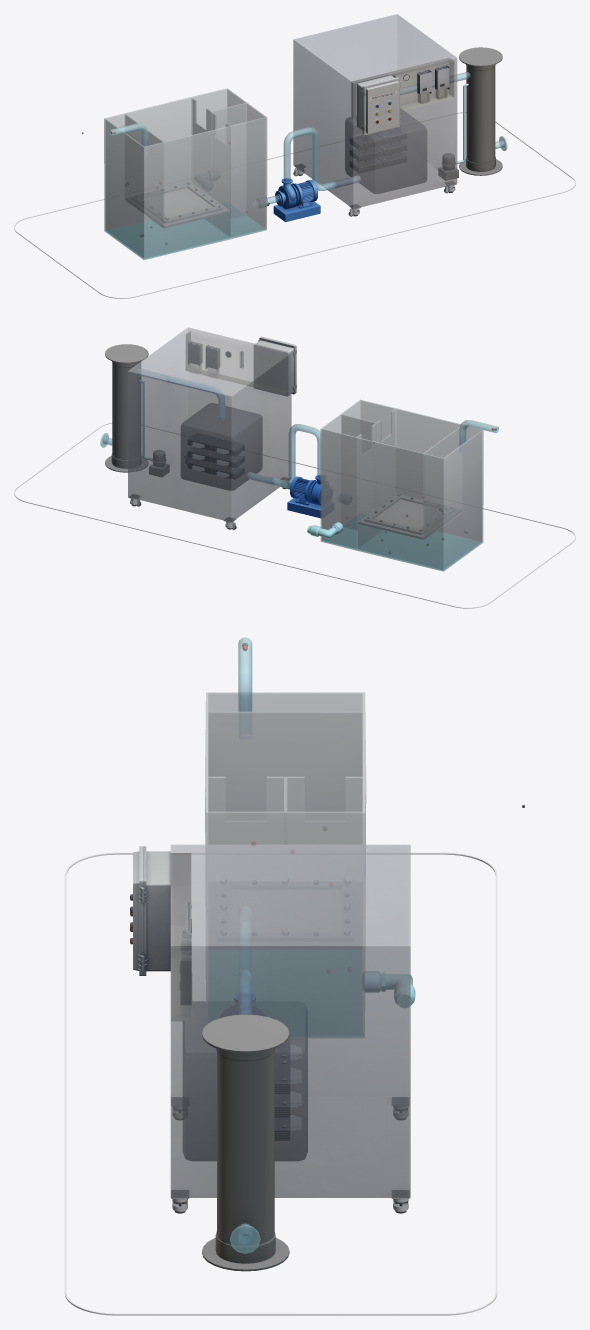
Rendered from NE100_roundedRCT (1).glb.
3 views of the same model, one above another, from view 1: azimuth 30°, elevation 25°; view 2: azimuth 150°, elevation 25°; view 3: azimuth 270°, elevation 25° (orthographic). The views are drawn at different scales.
Visible parts, largest first — view 1: transparent_mesh, Strainer, water_fill_01, CtrllBox, Lauter_filter, Rectangle_01, Pump, SMPS, PUMP_floor, water_fill_02, Pump_small, Electrolyzer_main006 (+1 smaller); view 2: transparent_mesh, Strainer, water_fill_01, CtrllBox, Lauter_filter, Rectangle_01, Pump, SMPS, water_fill_02, PUMP_floor, Pump_small, Electrolyzer_main006 (+1 smaller); view 3: transparent_mesh, Strainer, CtrllBox, Rectangle_01, FootMaster, Lauter_pump.
Part boxes in pixels (x1,y1,x2,y2): transparent_mesh: (104, 14, 507, 259); Strainer: (459, 47, 502, 175); water_fill_01: (106, 219, 229, 259); CtrllBox: (357, 75, 399, 135); Lauter_filter: (126, 182, 229, 228); Rectangle_01: (14, 112, 575, 298); Pump: (275, 178, 317, 209); SMPS: (417, 65, 449, 94); PUMP_floor: (273, 201, 320, 222); water_fill_02: (204, 215, 265, 238); Pump_small: (438, 153, 458, 180); Electrolyzer_main006: (350, 133, 382, 149); transparent_mesh: (100, 327, 498, 571); Strainer: (105, 344, 148, 472); water_fill_01: (358, 531, 480, 570); CtrllBox: (253, 336, 296, 396); Lauter_filter: (358, 494, 461, 539); Rectangle_01: (14, 422, 575, 608); Pump: (290, 475, 321, 505); SMPS: (188, 340, 219, 369); water_fill_02: (323, 527, 383, 549); PUMP_floor: (287, 498, 321, 518); Pump_small: (149, 450, 169, 476); Electrolyzer_main006: (212, 439, 244, 455); transparent_mesh: (170, 637, 410, 1253); Strainer: (202, 1014, 289, 1271); CtrllBox: (133, 846, 170, 975); Rectangle_01: (64, 852, 497, 1315); FootMaster: (171, 1097, 409, 1213); Lauter_pump: (363, 971, 415, 1007).
Size of the model in its own units: 12.15 by 3.34 by 5.12.
Materials: 7 (2 with a texture image).
